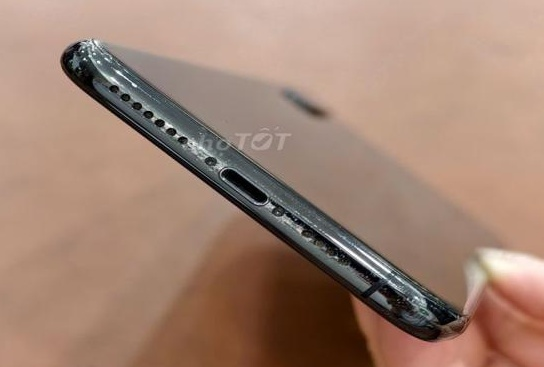scratch: (213, 154, 465, 330), (69, 42, 234, 184)
